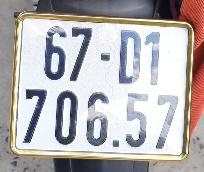0: (52, 84, 82, 150)
1: (144, 28, 162, 88)
5: (122, 88, 150, 152)
6: (43, 22, 67, 84), (85, 86, 109, 145)
7: (20, 83, 47, 147), (153, 93, 181, 153), (69, 23, 95, 83)
D: (113, 27, 143, 87)
